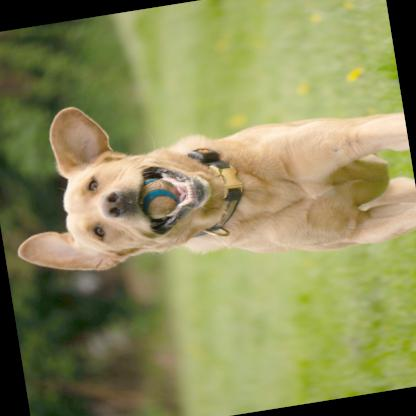DOG: (0, 51, 415, 303)
